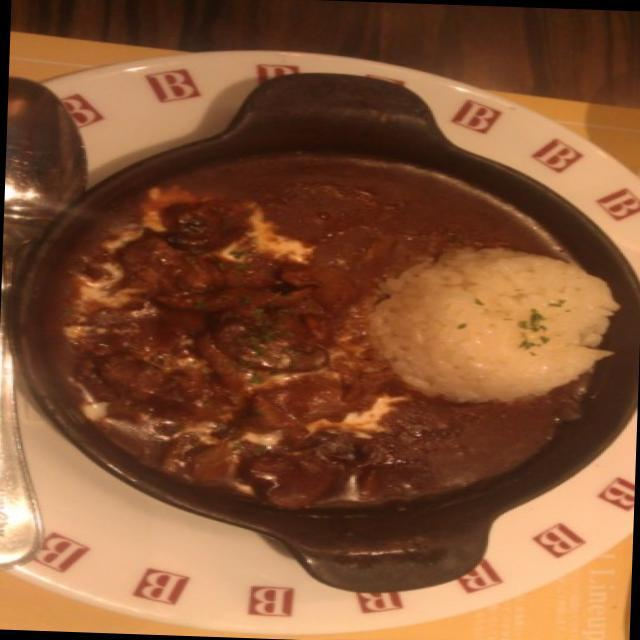Beef Curry: (81, 162, 367, 500)
